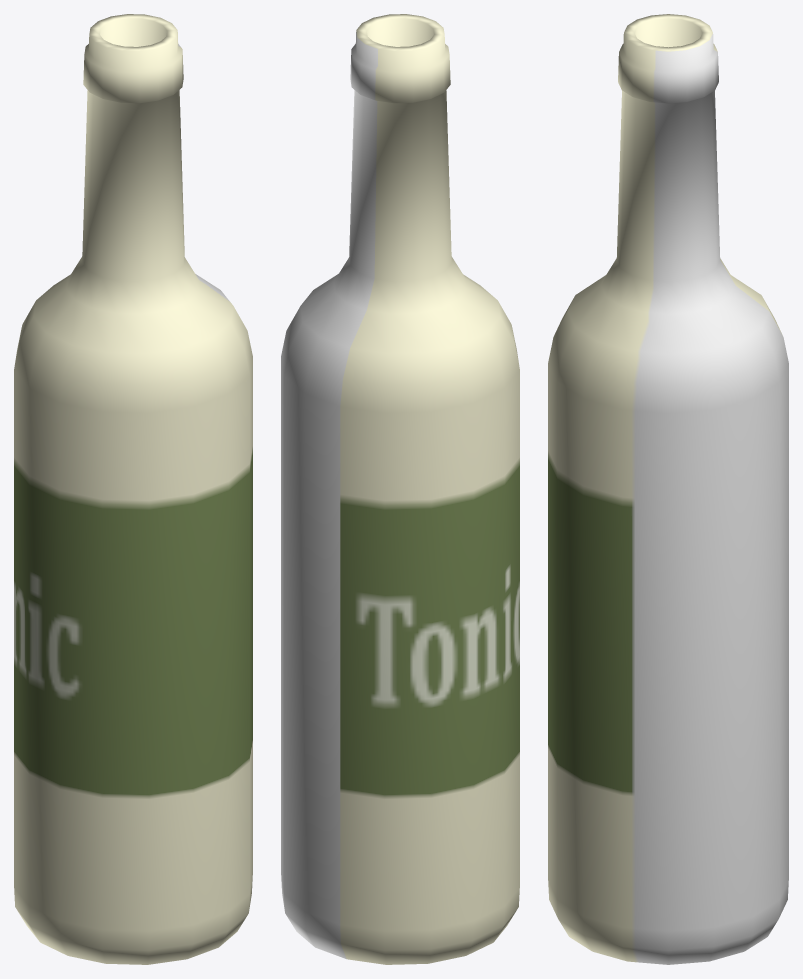
Rendered from bottle-wine.fbx.
The picture shows the model from 3 angles, left to right: view 1: azimuth 30°, elevation 25°; view 2: azimuth 150°, elevation 25°; view 3: azimuth 270°, elevation 25°; orthographic projection.
Parts seen in each view (by area): view 1: bottle_wine; view 2: bottle_wine; view 3: bottle_wine.
Boxes of the visible parts, x1=… form: bottle_wine: x1=14, y1=14, x2=252, y2=964; bottle_wine: x1=281, y1=14, x2=519, y2=964; bottle_wine: x1=548, y1=14, x2=788, y2=964.
Size of the model in its own units: 0.0738 by 0.3 by 0.0738.
